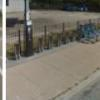bicycles: (76, 24, 98, 45)
